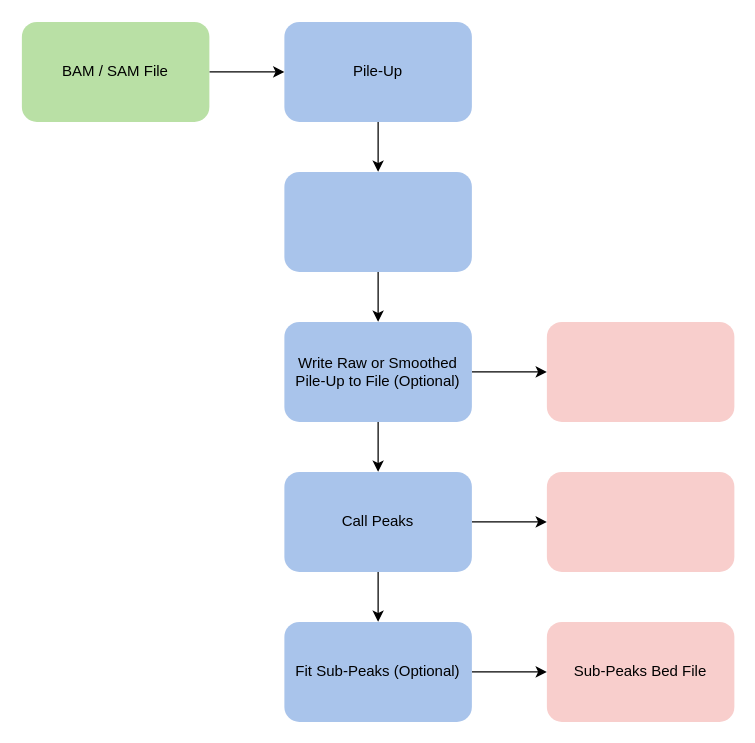
Some shapes in this 755 by 743 pixel diagram are drawn without their labels. The centre of each missing label's shape, as x and y in pixels:
"Peaks Bed File" belongs at pixel 640 521.
"Smooth (PDF)" belongs at pixel 377 221.
"Wig / BedGraph File" belongs at pixel 640 371.
